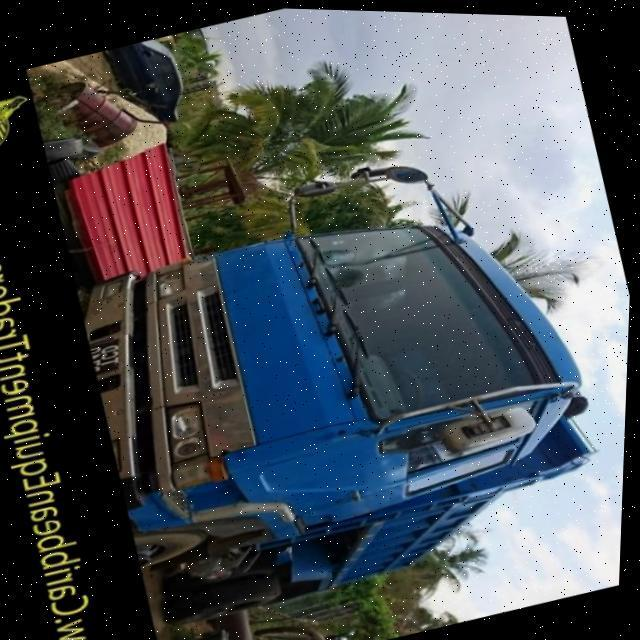truck: (69, 160, 635, 640)
